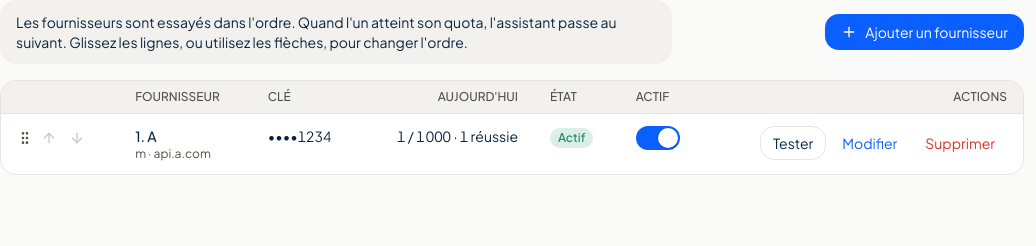
Test: /assistant › interrupteur : met le fournisseur en pause
This screenshot has width=1036, height=246.
Click the switch with test id "provider-toggle-a" at (658, 138), box [636,126,680,150]
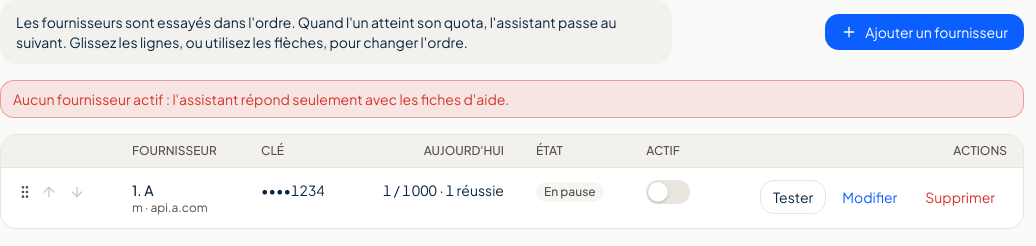
Expected: the row with test id "provider-row-a" shows "En pause", [544,184,596,199]
